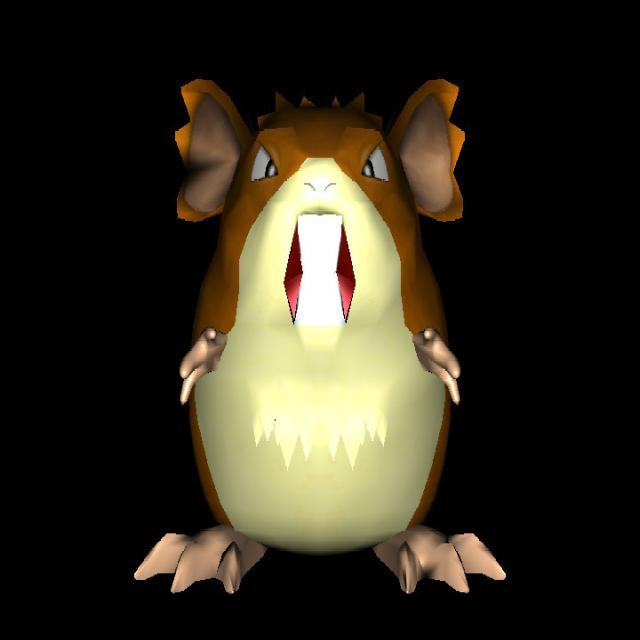Raticate: (169, 69, 493, 614)
